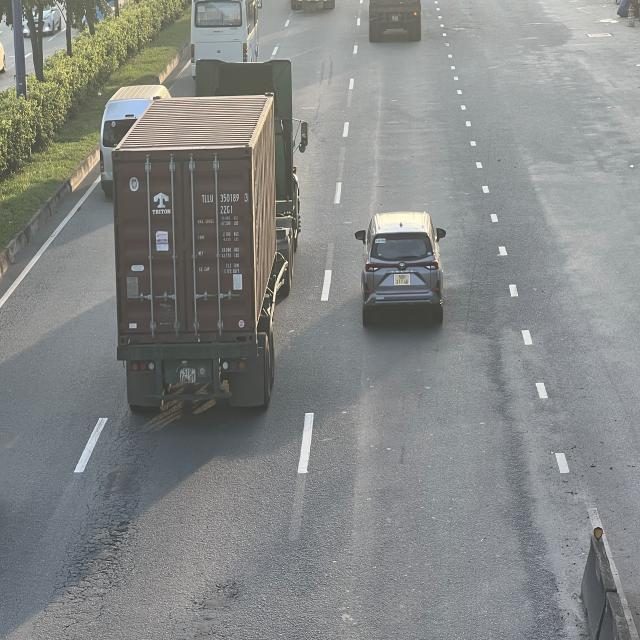car: (354, 208, 449, 329)
coach: (190, 0, 261, 61)
container: (108, 59, 300, 410)
van: (100, 85, 168, 197)
